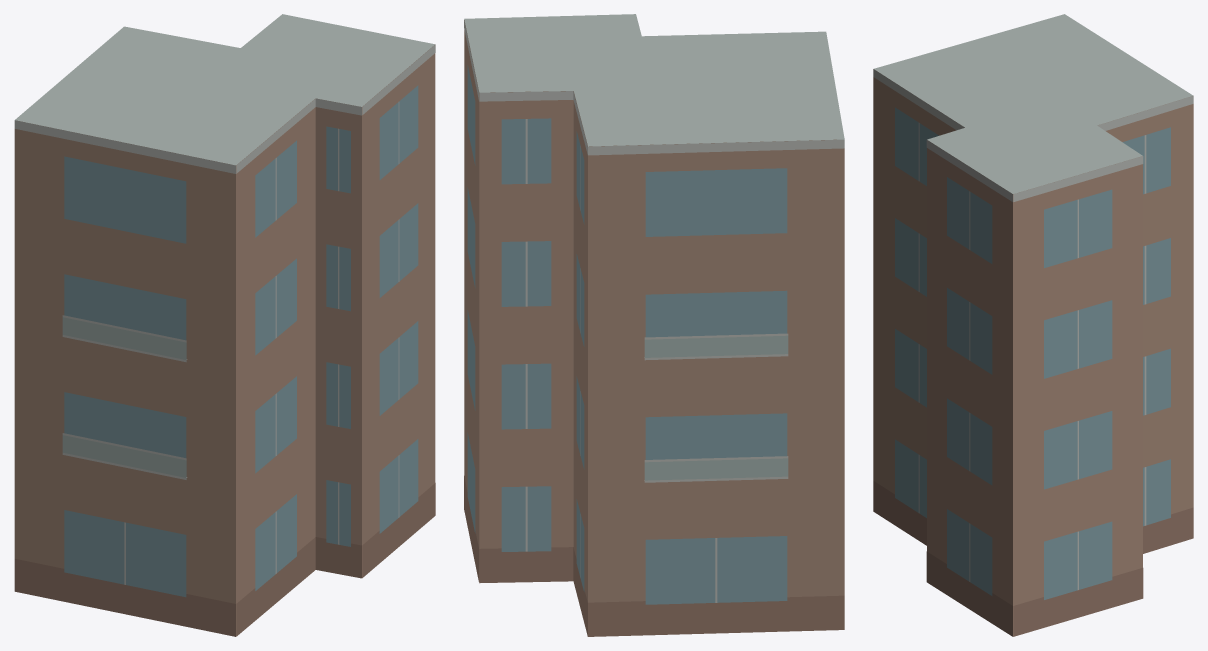
The model's file is survey-upis-32946555.glb.
3 renders of one model, left to right at view 1: azimuth 30°, elevation 25°; view 2: azimuth 150°, elevation 25°; view 3: azimuth 270°, elevation 25°, orthographic. The views are drawn at different scales.
Visible parts, largest first — view 1: survey-upis-32946555.tmp; view 2: survey-upis-32946555.tmp; view 3: survey-upis-32946555.tmp.
Boxes of the visible parts, x1,y1,x2,y2 form: survey-upis-32946555.tmp: (14,14,435,636); survey-upis-32946555.tmp: (464,14,844,636); survey-upis-32946555.tmp: (873,14,1193,636).
Size of the model in its own units: 11.62 by 13.3 by 8.72.
